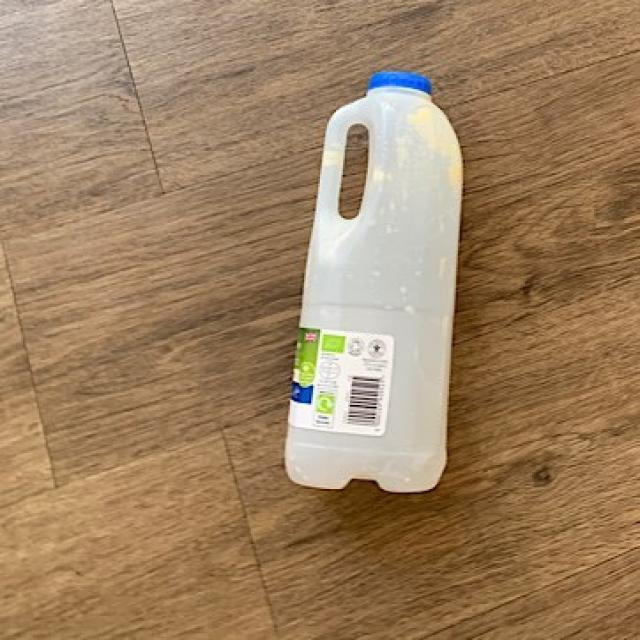HDPE Plastic: (282, 65, 468, 497)
